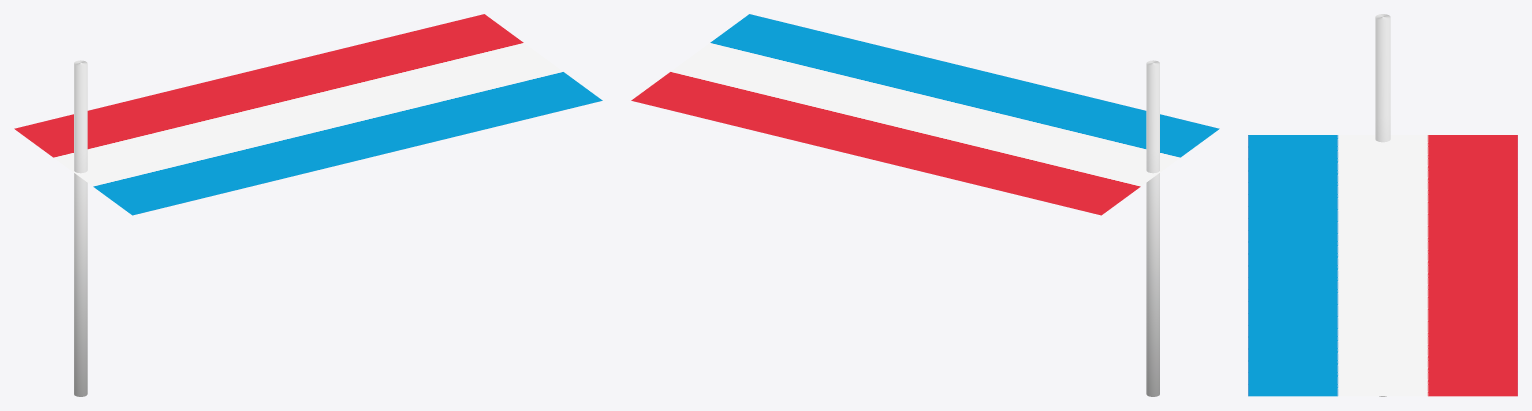
The model's file is Flag_Luxembourg.glb.
The picture shows the model from 3 angles, left to right: view 1: azimuth 30°, elevation 25°; view 2: azimuth 150°, elevation 25°; view 3: azimuth 270°, elevation 25°; orthographic projection. The views are drawn at different scales.
Parts seen in each view (by area): view 1: Base_Flag, Base_Pole; view 2: Base_Flag, Base_Pole; view 3: Base_Flag, Base_Pole.
Part boxes in pixels (left/top/right/bottom): Base_Flag: left=14, top=14, right=602, bottom=215; Base_Pole: left=74, top=60, right=87, bottom=396; Base_Flag: left=631, top=14, right=1219, bottom=215; Base_Pole: left=1146, top=60, right=1159, bottom=396; Base_Flag: left=1248, top=135, right=1517, bottom=396; Base_Pole: left=1375, top=14, right=1390, bottom=396.
Bounding box in the file's own units: 4.76 × 3.2 × 2.07.
2 materials, 2 textured.
